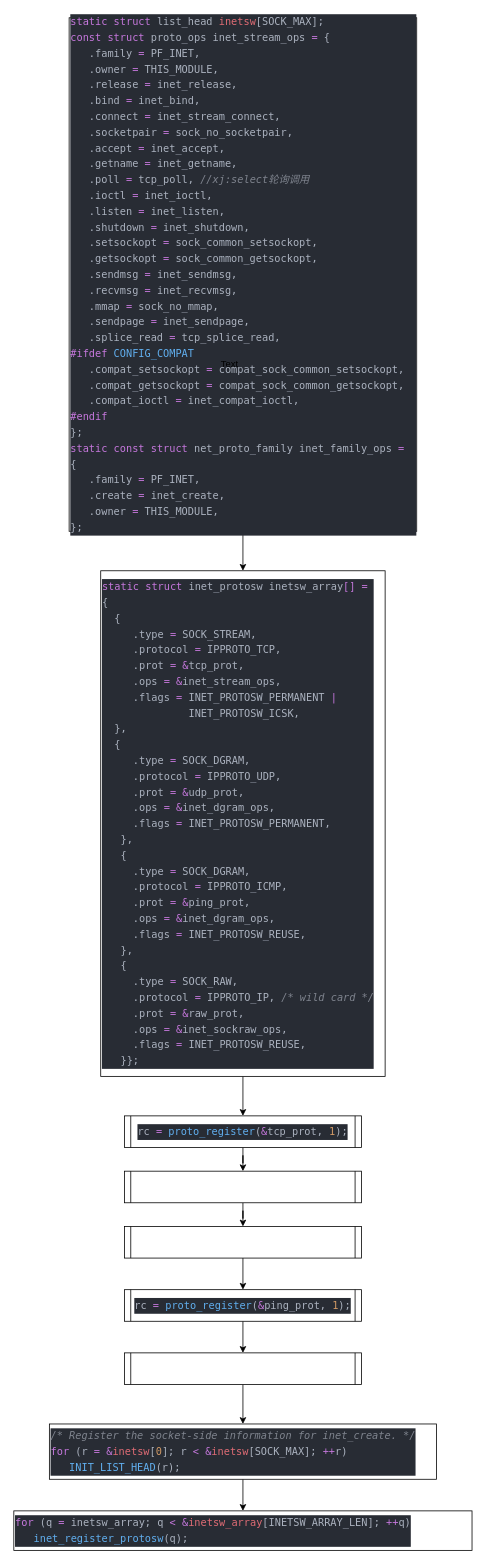
Image size: 486x1564. Some labels were removed from this diagram. Here are the shapes that lost their labels. From the top down, the box of each, then its label:
(124, 1170, 361, 1203): rc = proto_register ( & udp_prot, 1 );
(124, 1226, 361, 1258): rc = proto_register ( & raw_prot, 1 );
(124, 1352, 361, 1384): sock_register ( & inet_family_ops);
